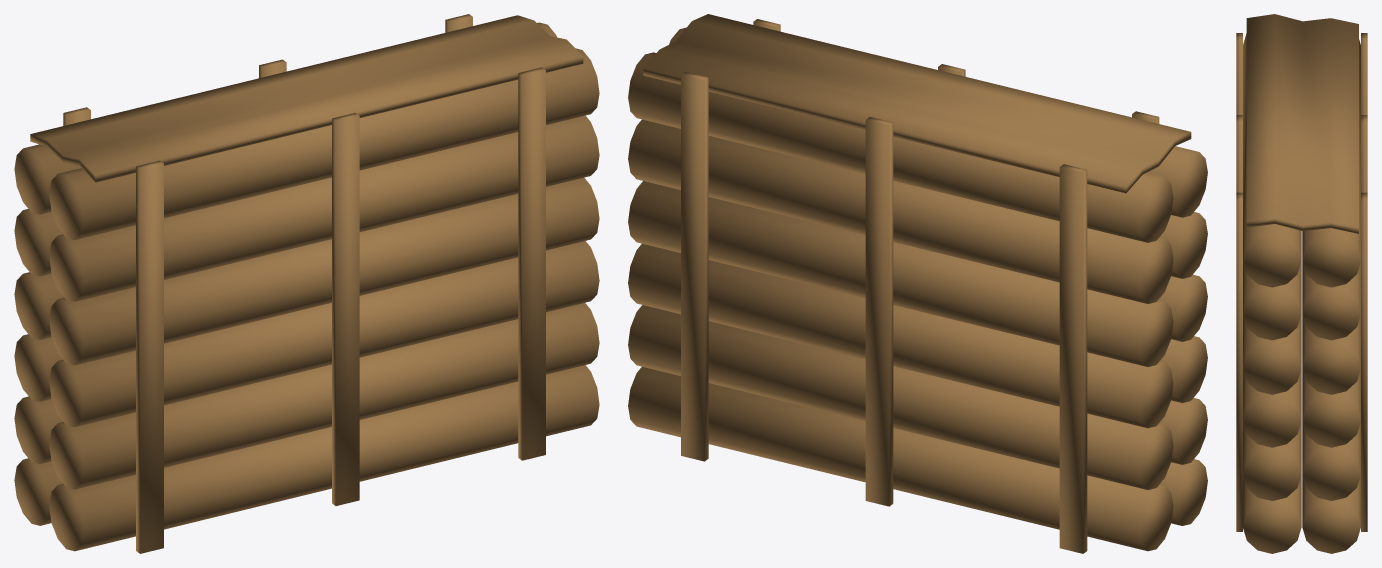
File: Muro_madeira.fbx
3 views of the same model, side by side, from view 1: azimuth 30°, elevation 25°; view 2: azimuth 150°, elevation 25°; view 3: azimuth 270°, elevation 25° (orthographic). The views are drawn at different scales.
Visible parts, largest first — view 1: Cylinder.016; view 2: Cylinder.016; view 3: Cylinder.016.
Boxes of the visible parts, left/top/right/bottom form: Cylinder.016: left=14, top=14, right=599, bottom=553; Cylinder.016: left=628, top=14, right=1207, bottom=553; Cylinder.016: left=1236, top=14, right=1367, bottom=553.
Bounding box in the file's own units: 601 × 432 × 155.
